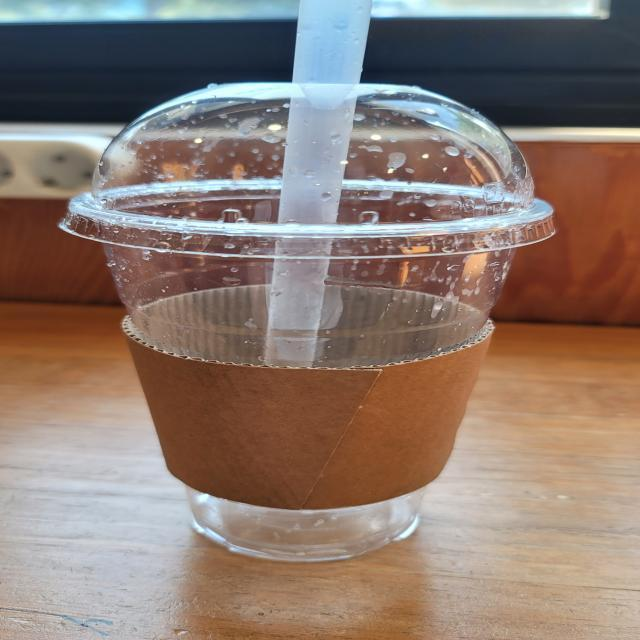cup: (33, 73, 618, 565)
